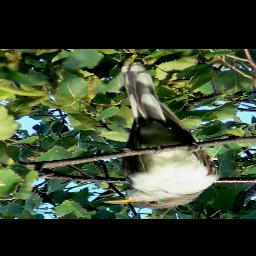Cuckoo: (102, 61, 218, 210)
